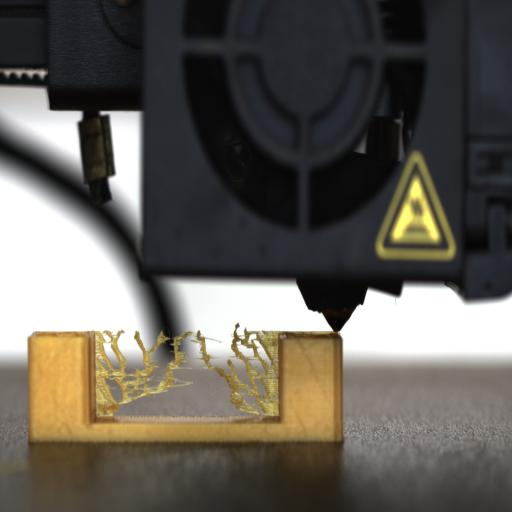stringing: (93, 326, 279, 418)
